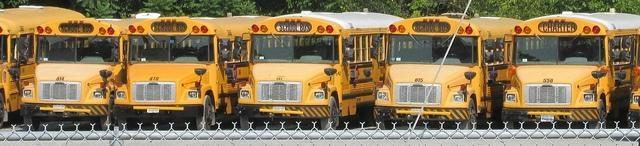bus: (232, 10, 406, 131), (114, 14, 272, 130), (373, 15, 528, 130), (17, 16, 164, 127), (501, 13, 640, 129), (0, 5, 84, 130)
